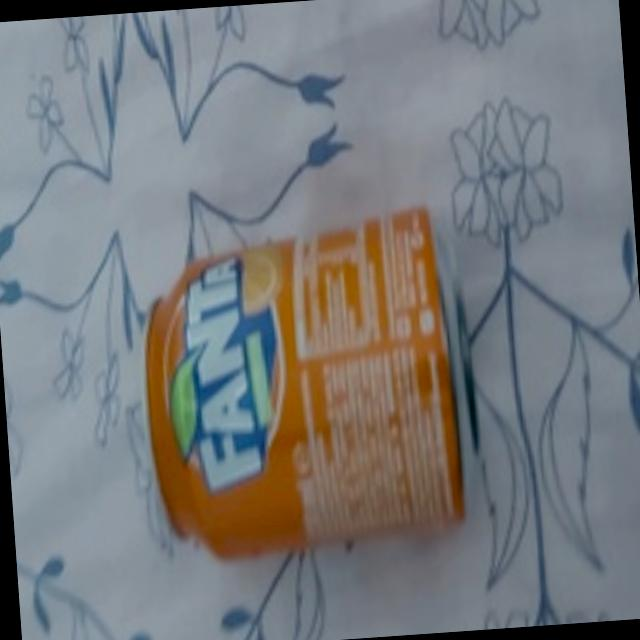Metal: (130, 200, 477, 567)
